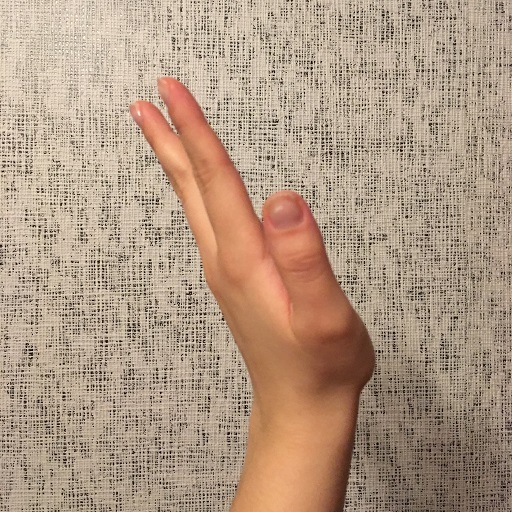hand: (135, 81, 360, 404)
